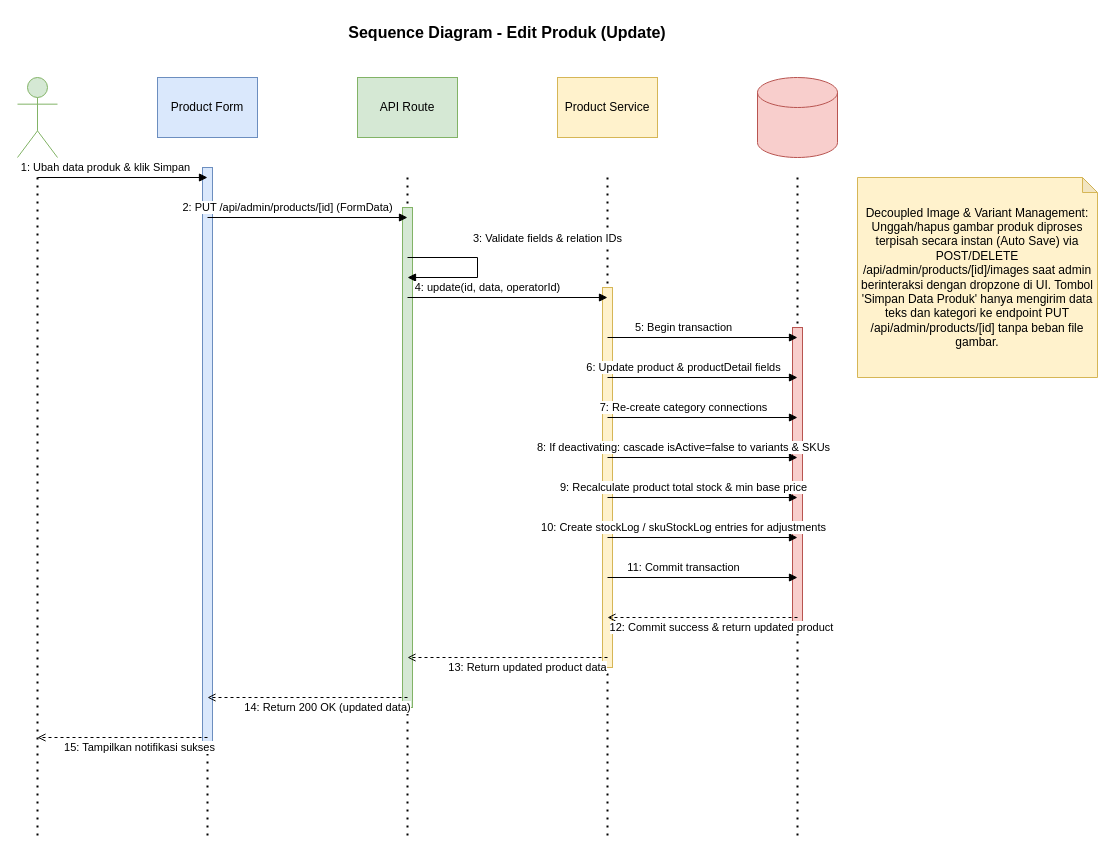
The diagram is 1115 pixels wide and 856 high, and some of its shapes have lost their labels. The shapes that lost their labels are listed below. From the top down, each one's box as (x1, y1, x2, y2) in pixels, then its label:
(16, 76, 58, 158): Admin
(756, 76, 838, 158): Database
